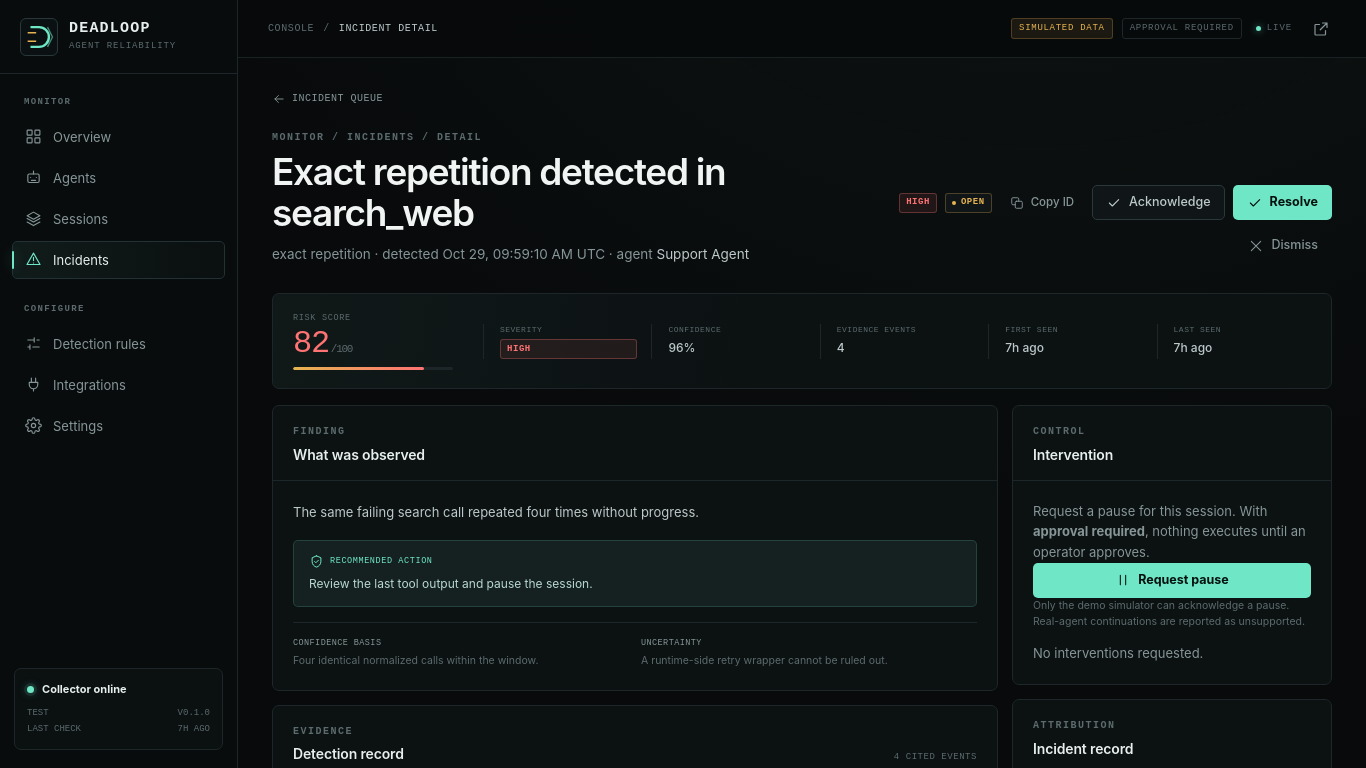
it: DEADLOOP console › resolves an incident through the confirmation dialog and sends an audit note
The width and height of the screenshot is (1366, 768).
Expected: the heading "Exact repetition detected in search_web" is shown, [272, 149, 725, 235]
Click the button "Resolve" at (1282, 203), box [1233, 185, 1332, 220]
(page scrolled)
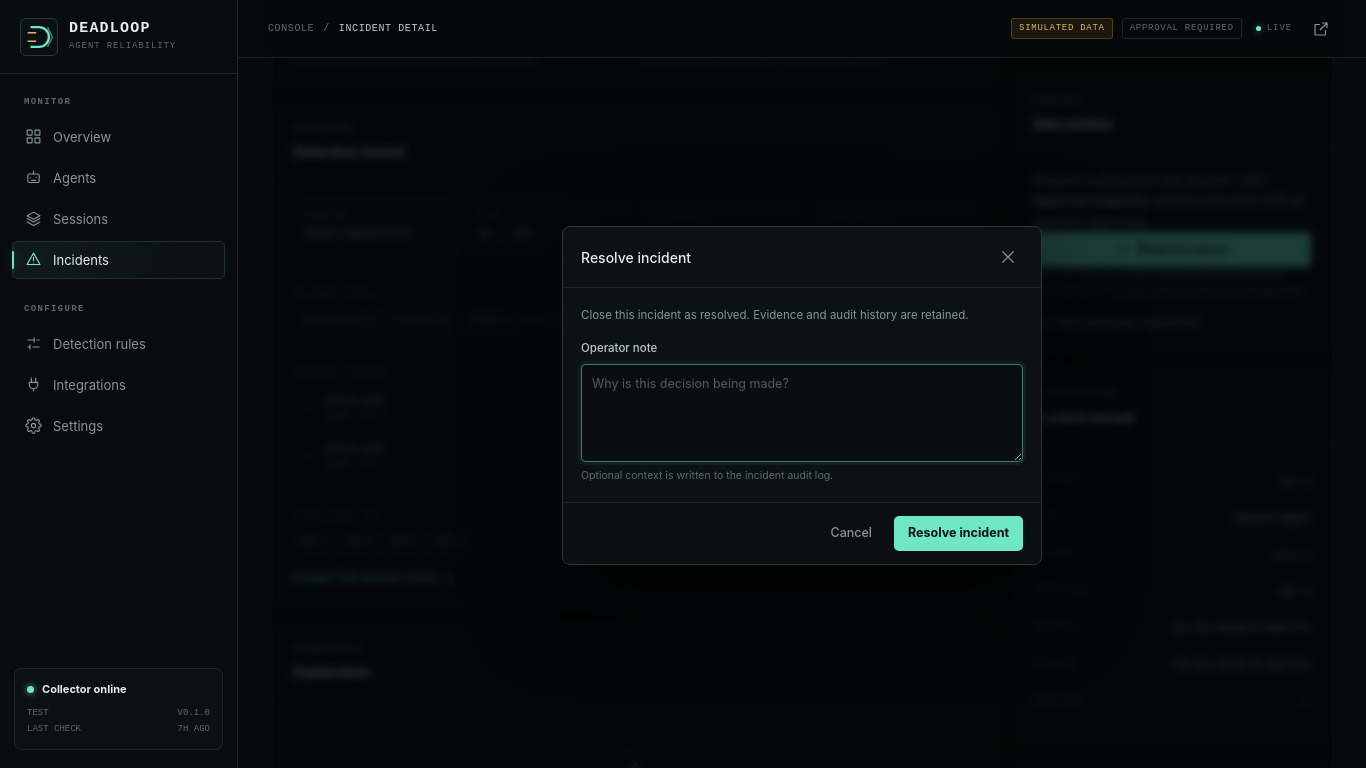
Expected: the dialog is shown, [562, 226, 1042, 565]
Type "Verified no further retries." into the text box with placeholder "Why is this decision being made?" at (802, 413), box [581, 364, 1023, 462]
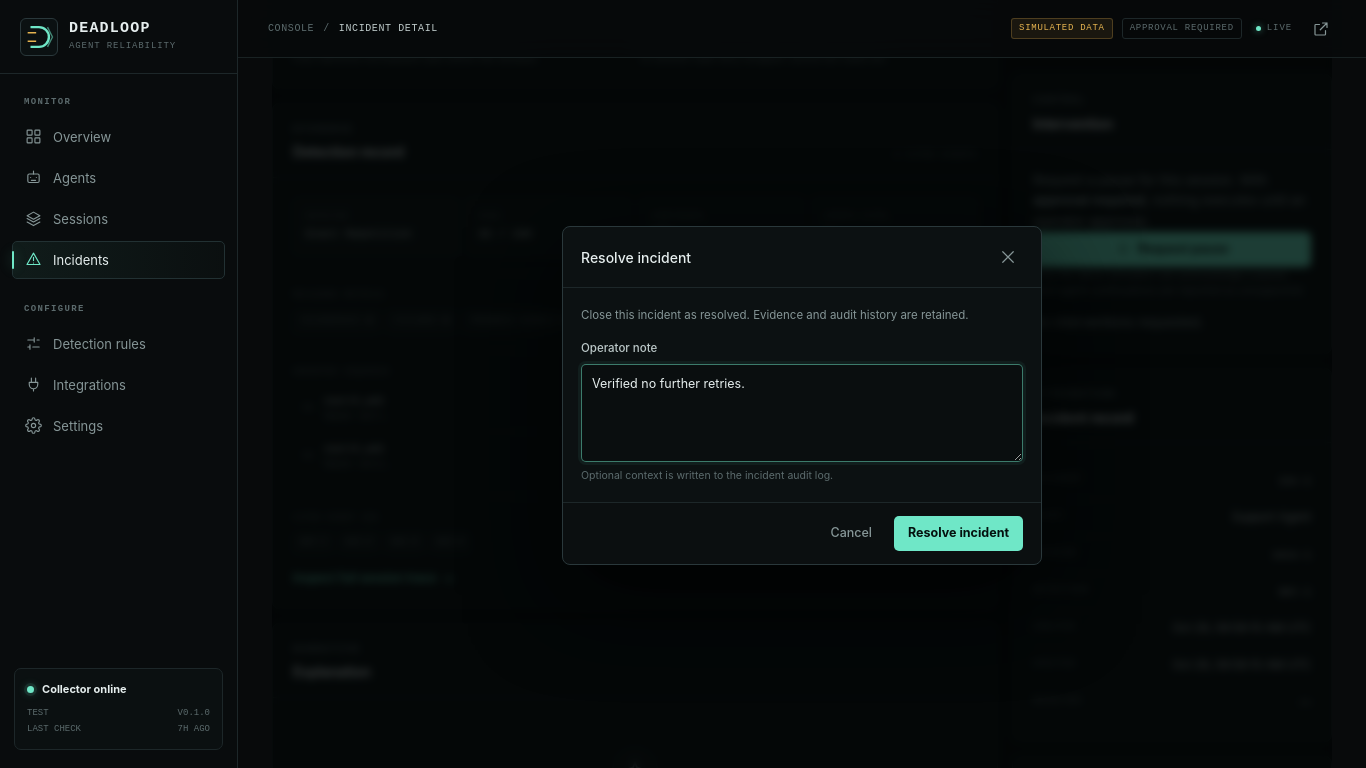
Click the button "Resolve incident" at (958, 534), box [894, 516, 1023, 551]
(page scrolled)
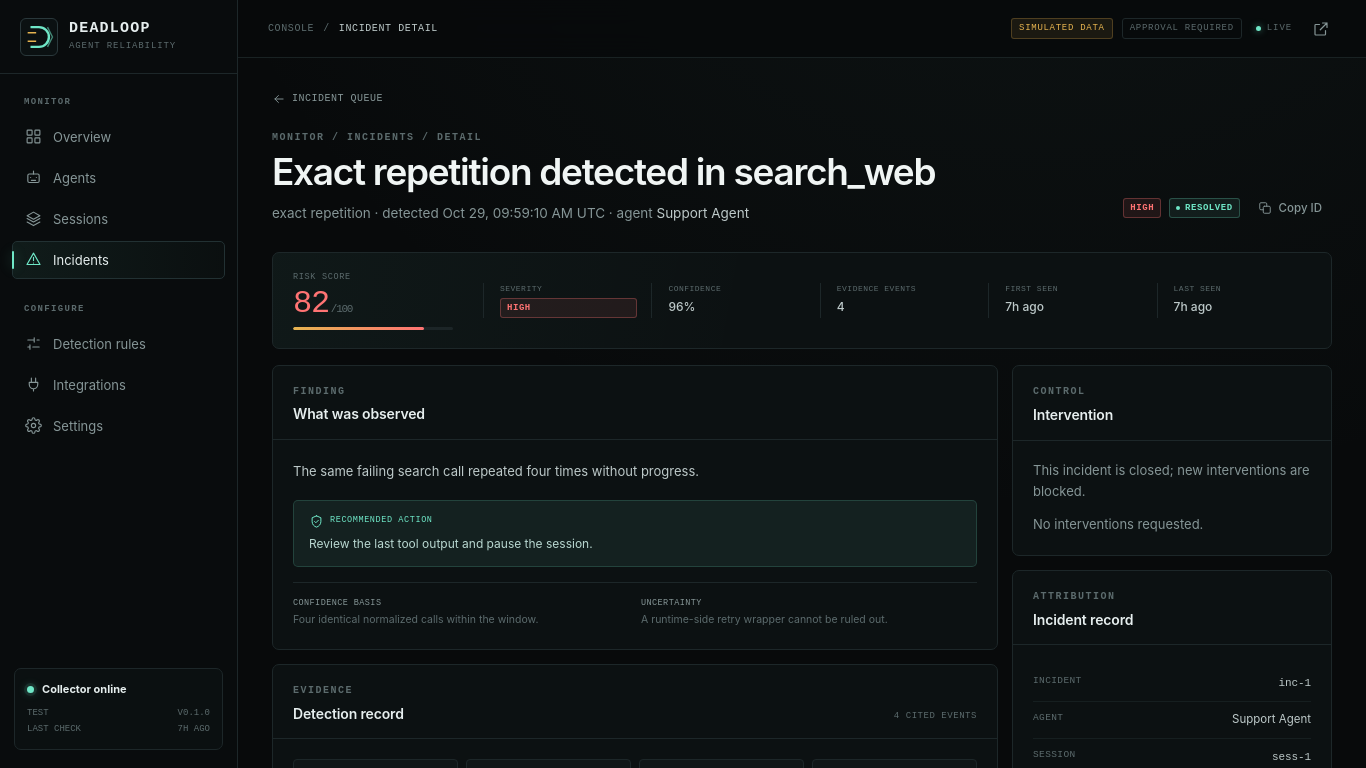
Expected: the text "RESOLVED" is shown, [1169, 198, 1240, 218]
